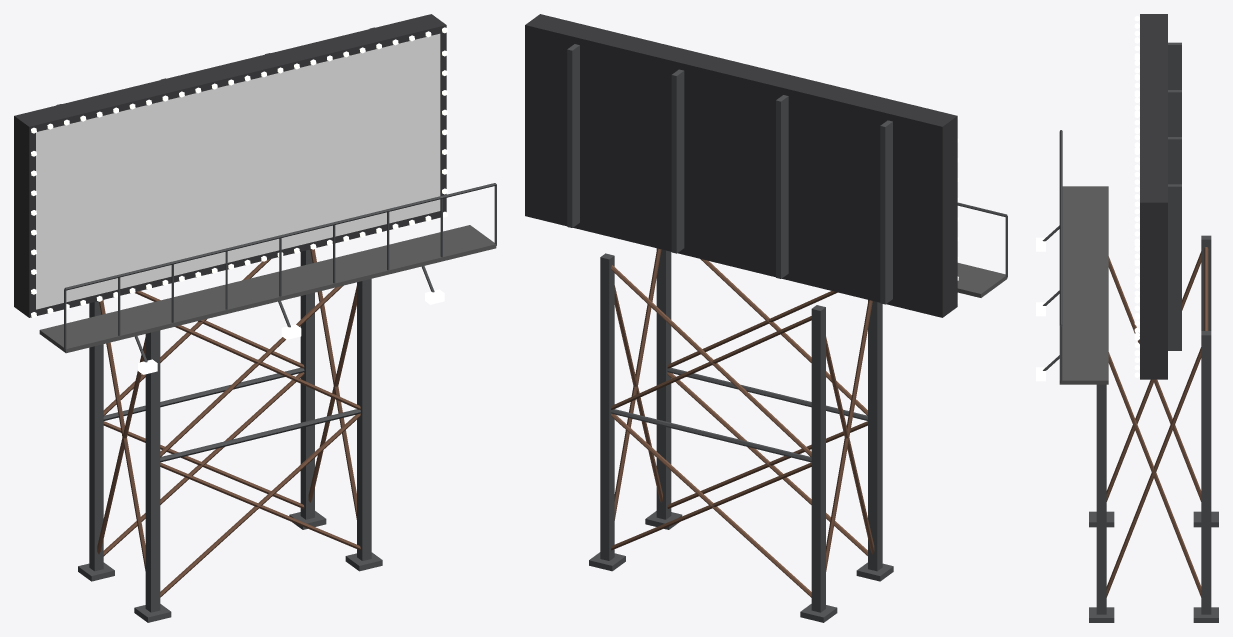
File: marquee89.glb
3 renders of one model, left to right at view 1: azimuth 30°, elevation 25°; view 2: azimuth 150°, elevation 25°; view 3: azimuth 270°, elevation 25°, orthographic. The views are drawn at different scales.
Parts seen in each view (by area): view 1: r89-face, m89-cabinet, m89-catwalk, m89-leg, m89-leg.002, m89-leg.001, m89-leg.003, m89-rail, m89-x, m89-tie, m89-x.008, m89-x.002 (+8 smaller); view 2: m89-cabinet, m89-leg.001, m89-leg.003, m89-leg, m89-leg.002, m89-rib.002, m89-rib, m89-rib.001, m89-rib.003, m89-x.006, m89-x.009, m89-x.004 (+12 smaller); view 3: m89-cabinet, m89-catwalk, m89-leg.003, m89-leg.002, m89-rib.003, m89-x.010, m89-x.011, m89-x.009, m89-x.008, m89-leg.001, m89-rail, m89-rib (+7 smaller).
Part boxes in pixels (x1,y1,x2,y2): r89-face: (36, 33, 440, 309); m89-cabinet: (14, 14, 446, 317); m89-catwalk: (39, 225, 496, 353); m89-leg: (145, 330, 160, 612); m89-leg.002: (357, 279, 371, 560); m89-leg.001: (89, 300, 103, 571); m89-leg.003: (300, 249, 314, 519); m89-rail: (64, 183, 496, 290); m89-x: (160, 413, 360, 597); m89-tie: (160, 409, 360, 462); m89-x.008: (99, 300, 145, 570); m89-x.002: (160, 285, 343, 457); m89-cabinet: (525, 14, 957, 317); m89-leg.001: (811, 305, 825, 612); m89-leg.003: (600, 253, 614, 560); m89-leg: (868, 300, 882, 571); m89-leg.002: (656, 248, 671, 519); m89-rib.002: (671, 69, 684, 253); m89-rib: (880, 120, 892, 304); m89-rib.001: (776, 95, 788, 278); m89-rib.003: (567, 44, 579, 227); m89-x.006: (611, 265, 811, 457); m89-x.009: (826, 300, 872, 571); m89-x.004: (611, 413, 811, 597); m89-cabinet: (1140, 14, 1167, 379); m89-catwalk: (1059, 186, 1108, 384); m89-leg.003: (1201, 331, 1211, 614); m89-leg.002: (1096, 384, 1106, 614); m89-rib.003: (1168, 184, 1181, 350); m89-x.010: (1106, 347, 1201, 597); m89-x.011: (1108, 352, 1201, 597); m89-x.009: (1108, 256, 1201, 501); m89-x.008: (1106, 251, 1201, 501); m89-leg.001: (1201, 235, 1211, 330); m89-rail: (1059, 130, 1062, 325); m89-rib: (1168, 42, 1181, 89).
Bounding box in the file's own units: 6.63 × 7.3 × 2.62.
